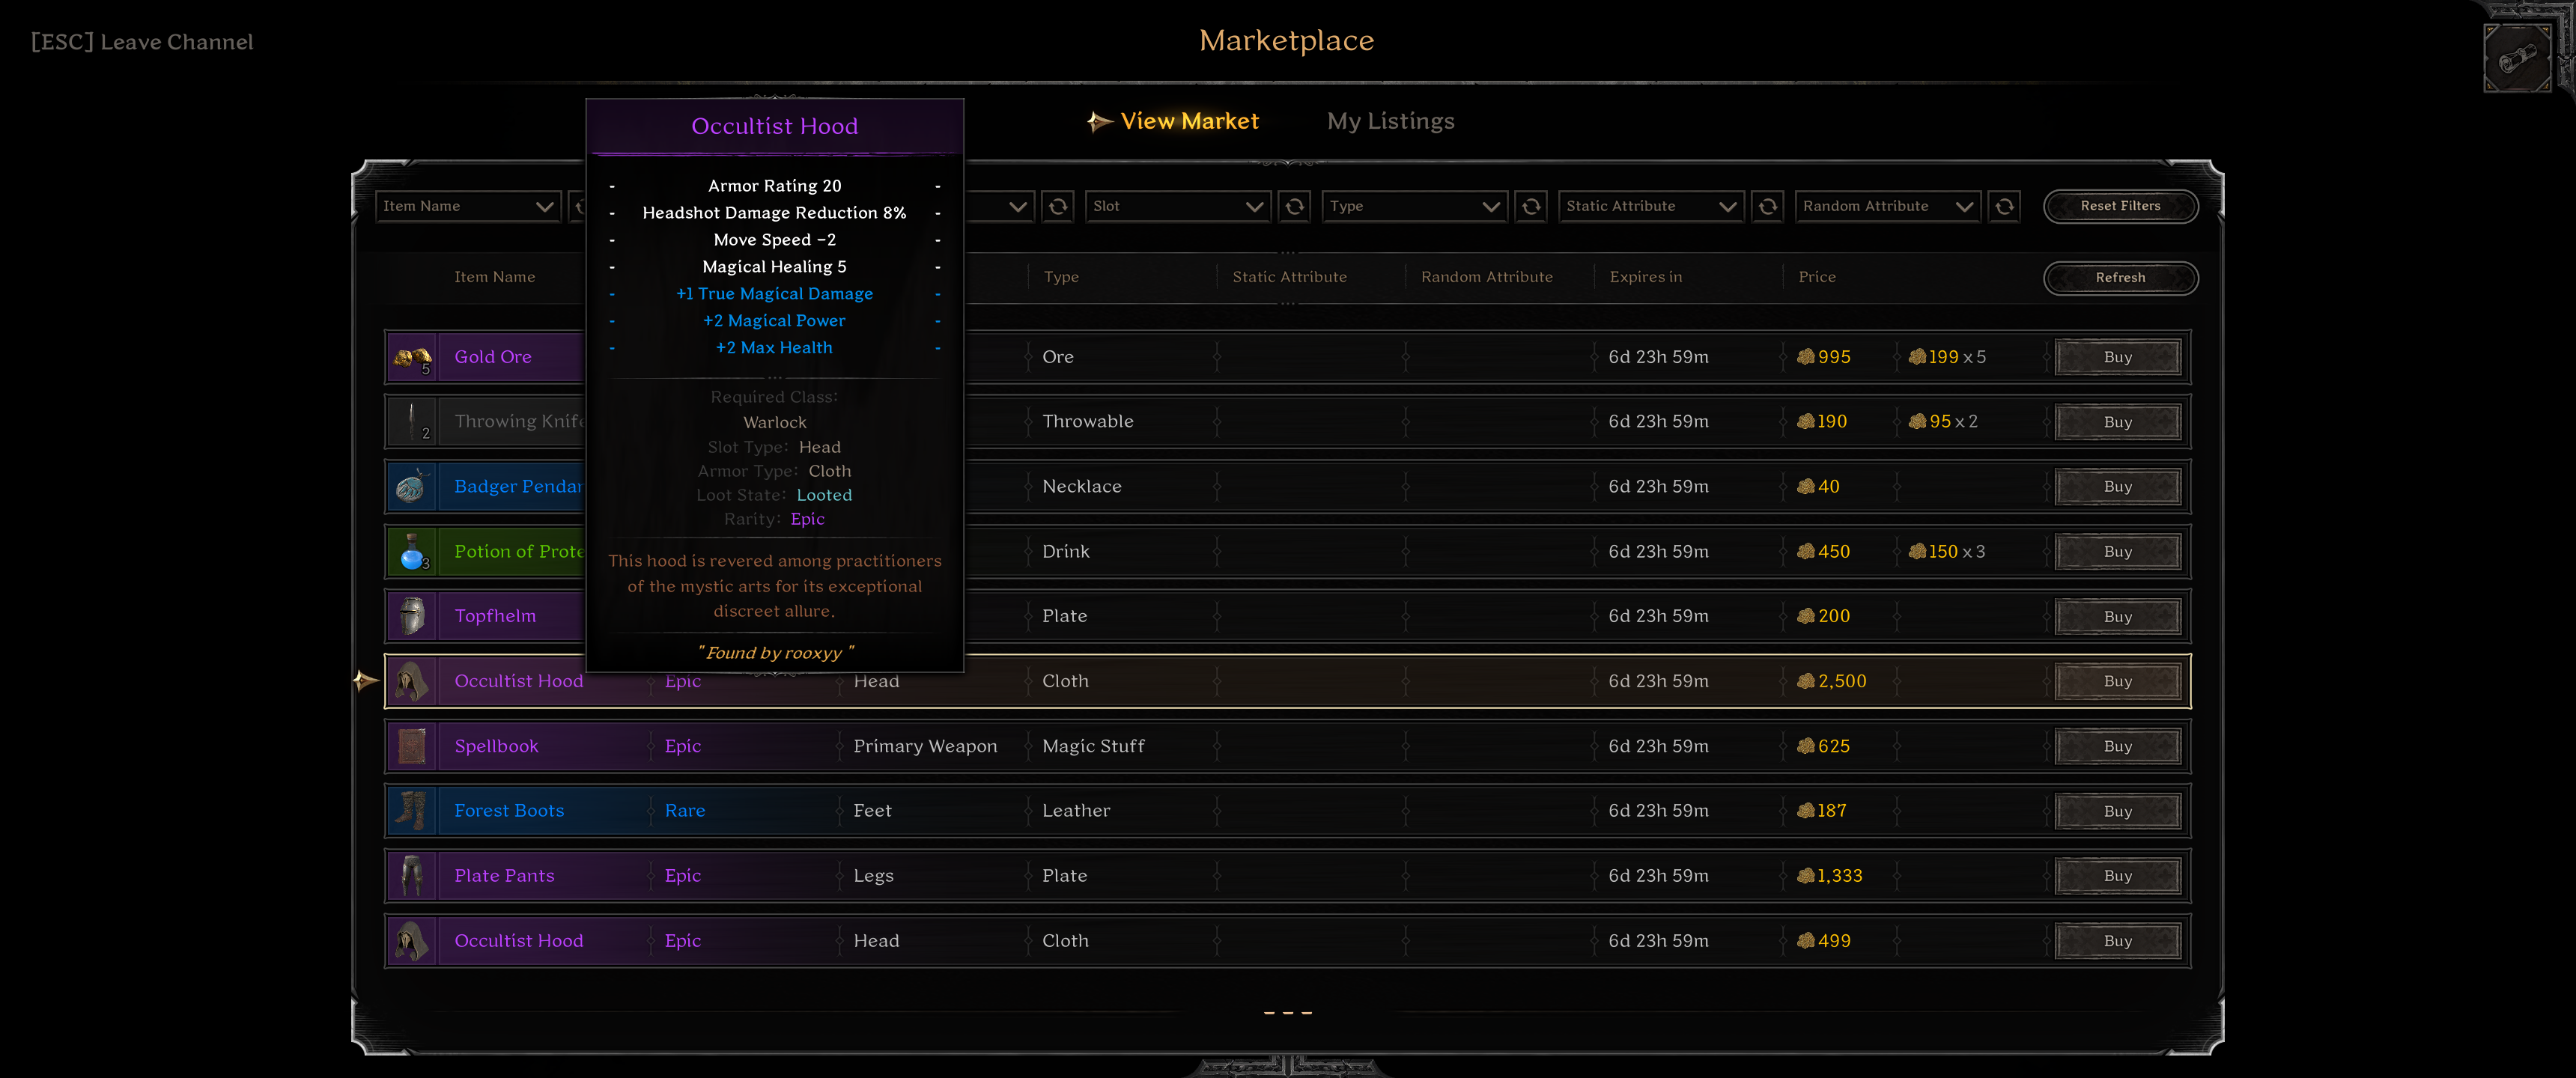Tooltip: (585, 97, 966, 674)
